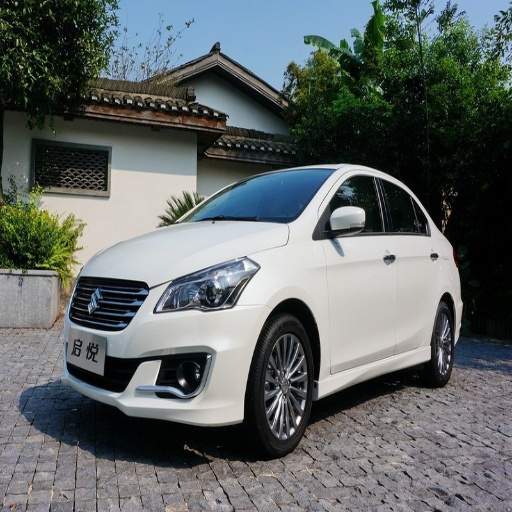front_bumper: (61, 268, 268, 426)
front_glass: (182, 168, 332, 223)
front_left_door: (318, 171, 398, 373)
